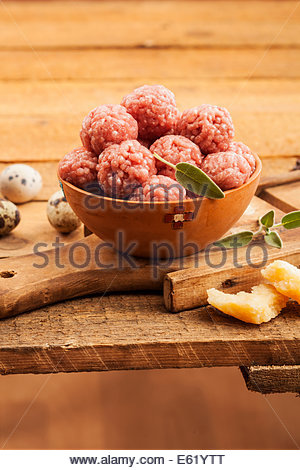ground_beef: (60, 82, 257, 211)
